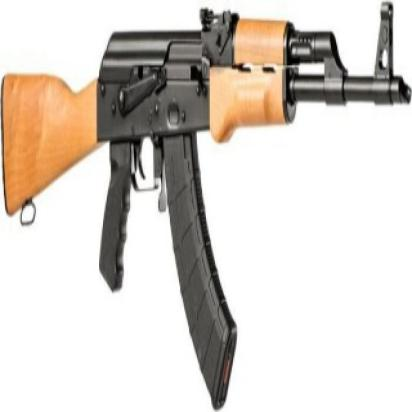Gun: (0, 0, 409, 410)
